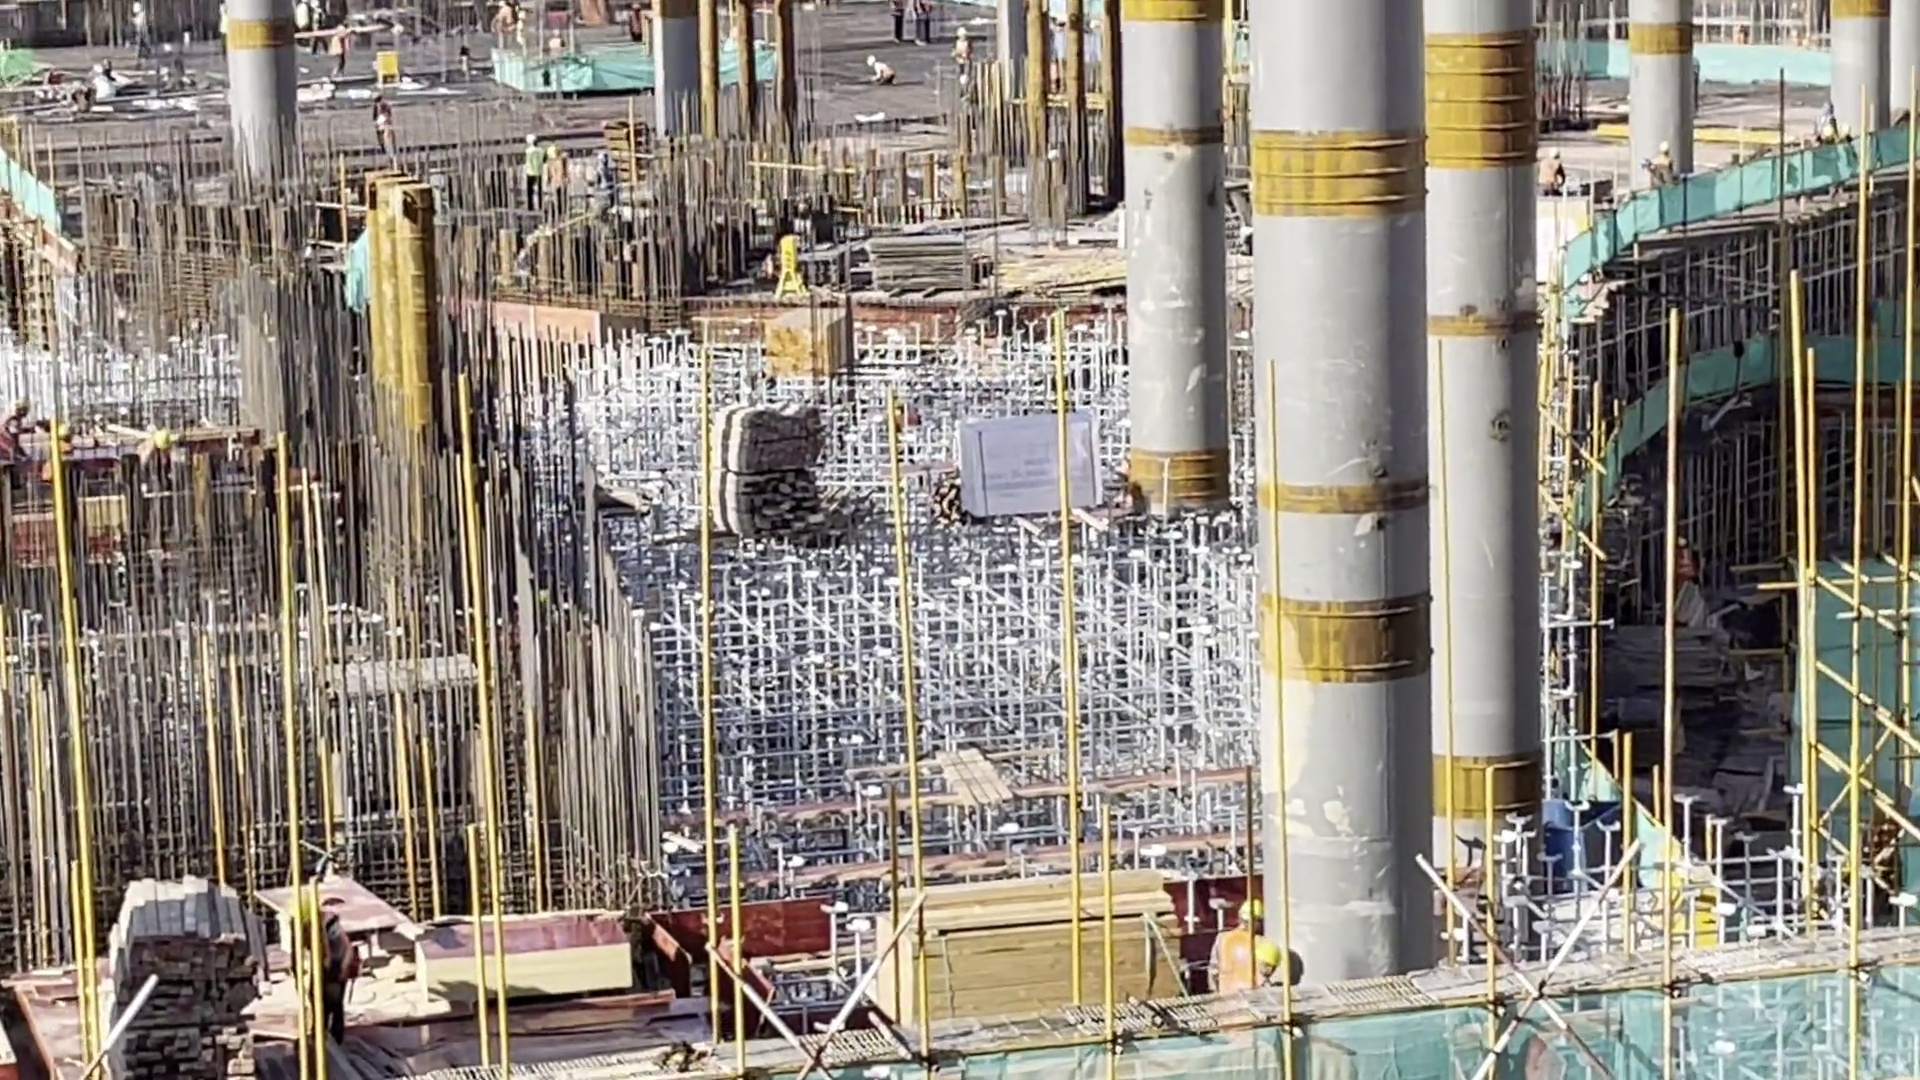helmet: (1233, 887, 1275, 927)
hopper: (1534, 792, 1635, 891)
person: (1200, 886, 1290, 998)
wood: (869, 863, 1190, 1018), (96, 862, 273, 1080), (686, 399, 830, 538), (759, 301, 854, 382)
